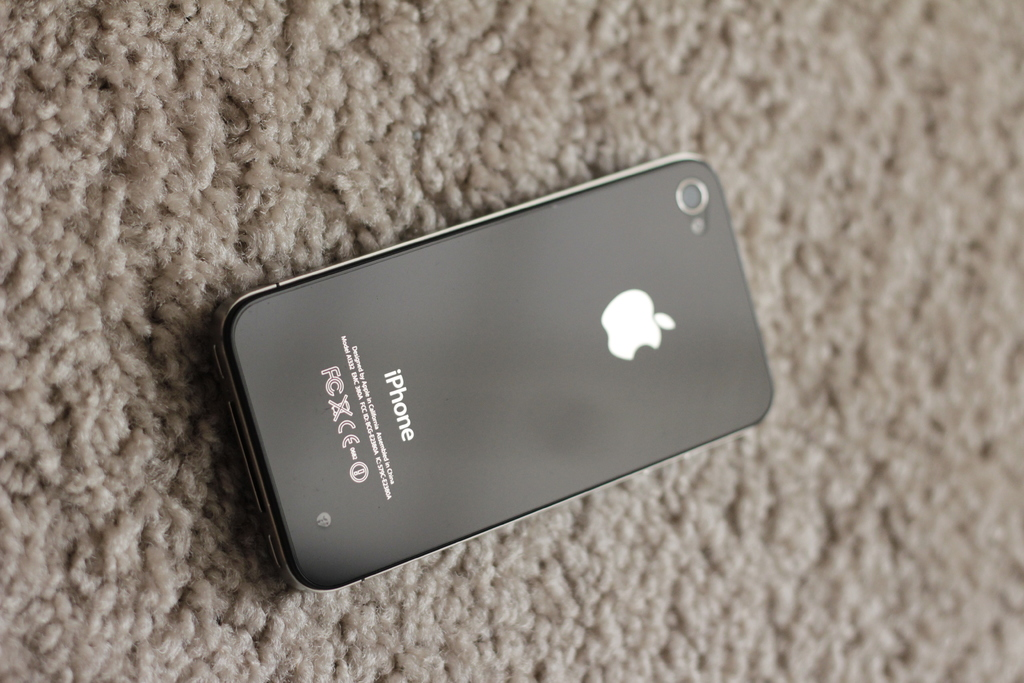Mobile-phone: (230, 149, 775, 591)
